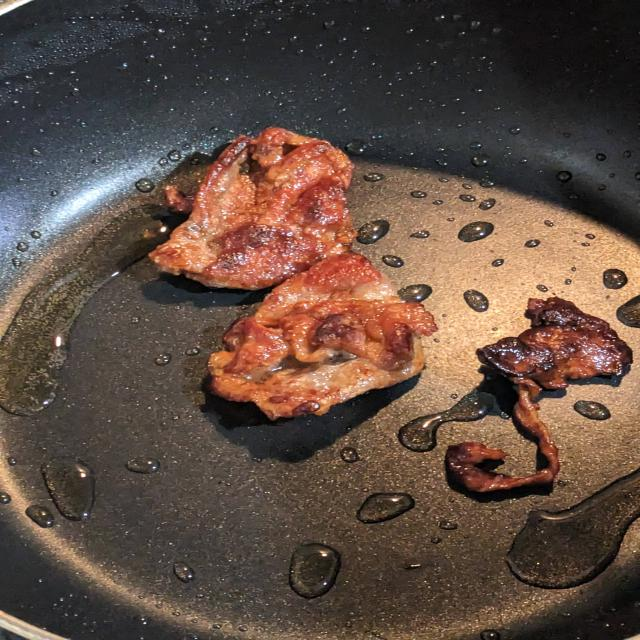overcooked pork: (200, 250, 441, 426), (441, 293, 640, 499), (141, 121, 365, 299)
